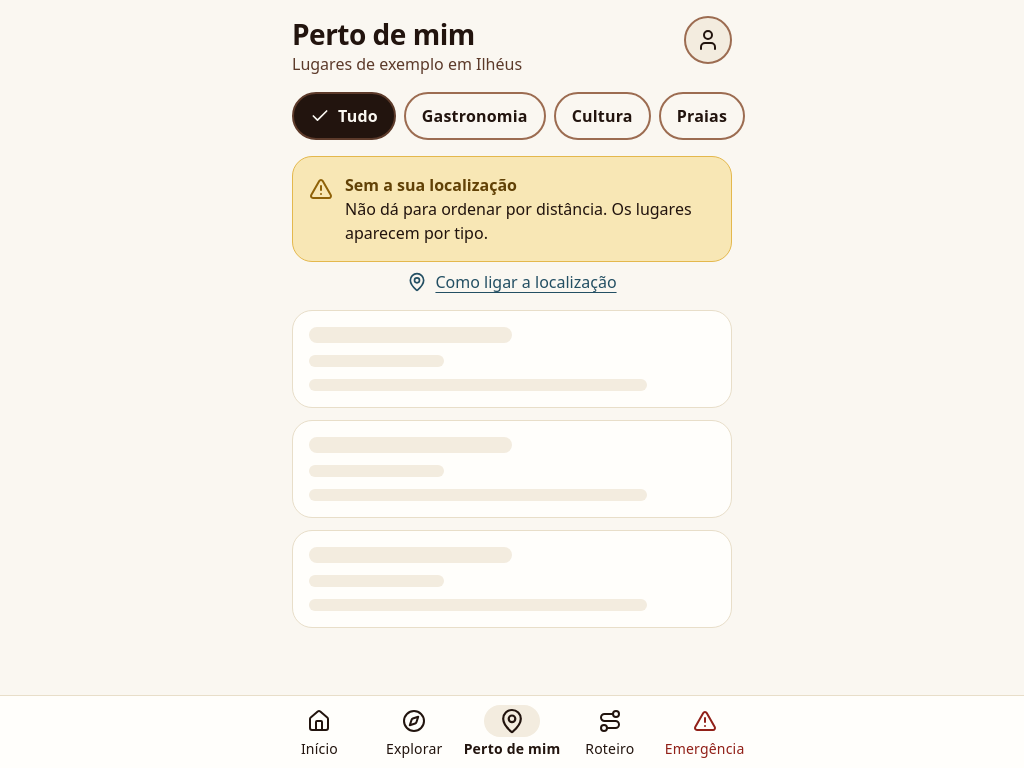
Test: AppShell, further cases › loading keeps the bar usable
Expected: the message named "Procurando lugares" is shown, [292,310,732,628]
Click the link "Emergência".
click(705, 734)  # box [665,709,744,758]
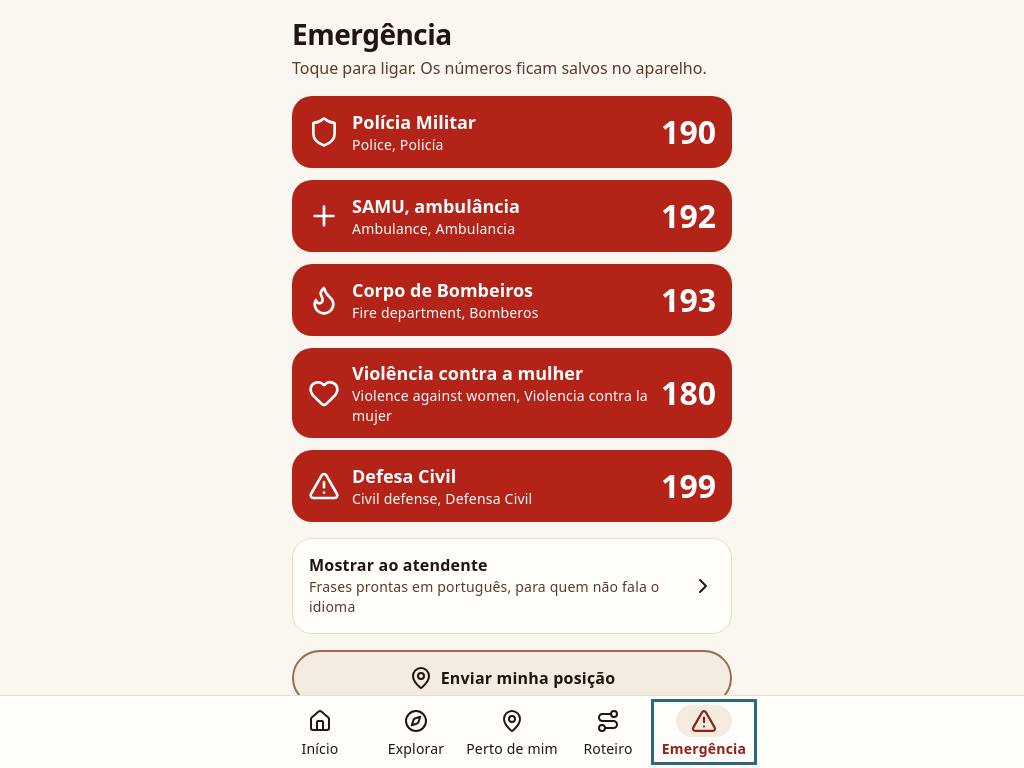
Now the heading "Emergência" is shown, box [292,15,452,53]
